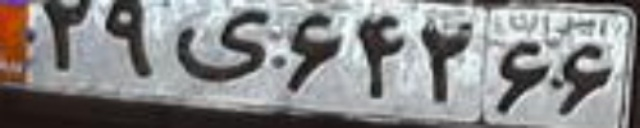1: (40, 0, 93, 71)
2: (420, 19, 471, 102)
4: (355, 15, 407, 98)
6: (284, 13, 344, 91), (491, 40, 550, 114), (559, 43, 613, 114)
9: (105, 0, 153, 77)
ye: (176, 10, 269, 81)
